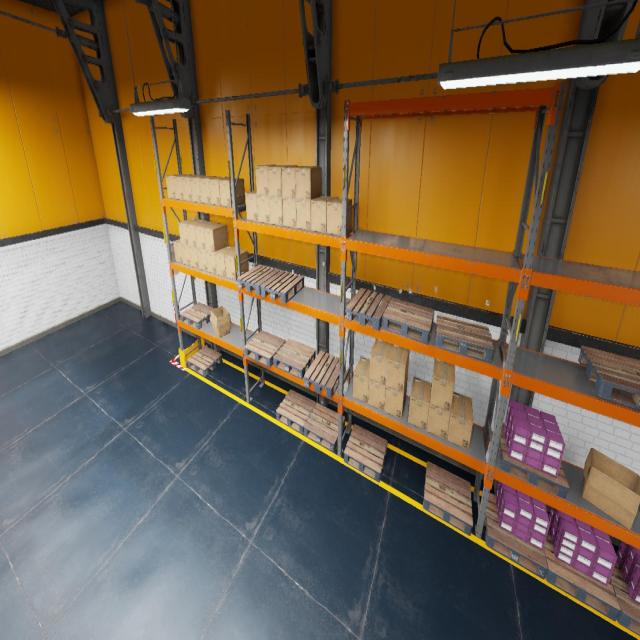box: (582, 448, 640, 530), (447, 392, 473, 449), (427, 383, 450, 440), (430, 358, 454, 412), (408, 377, 431, 431), (386, 344, 409, 393), (369, 338, 392, 386), (384, 374, 408, 419), (327, 198, 352, 235), (311, 196, 336, 233), (296, 166, 321, 200), (255, 164, 281, 196), (268, 164, 293, 197), (353, 356, 370, 404), (282, 165, 306, 198), (224, 249, 249, 280), (219, 178, 245, 207), (203, 223, 228, 252), (210, 306, 231, 338), (190, 175, 214, 203), (200, 176, 223, 204), (195, 221, 217, 250), (186, 220, 209, 247), (215, 246, 235, 277), (181, 175, 204, 201), (368, 379, 386, 412), (178, 218, 200, 245), (173, 174, 195, 200), (208, 177, 228, 205), (165, 174, 187, 198), (296, 199, 311, 230), (282, 198, 296, 228), (269, 196, 283, 225), (245, 190, 258, 221), (257, 195, 270, 223), (197, 248, 208, 271), (173, 239, 183, 264), (206, 250, 216, 274), (189, 246, 199, 268), (180, 244, 190, 266)
pallets: (544, 530, 620, 621), (484, 492, 547, 579), (498, 422, 569, 499), (578, 345, 640, 409), (423, 461, 473, 536), (435, 315, 494, 363), (344, 424, 387, 482), (382, 297, 434, 343), (610, 560, 640, 636), (304, 402, 345, 452), (346, 288, 391, 331), (304, 351, 345, 398), (276, 390, 316, 434), (274, 339, 316, 379), (244, 330, 286, 367), (261, 270, 304, 304), (237, 264, 280, 295), (187, 346, 222, 376), (180, 302, 214, 329)
